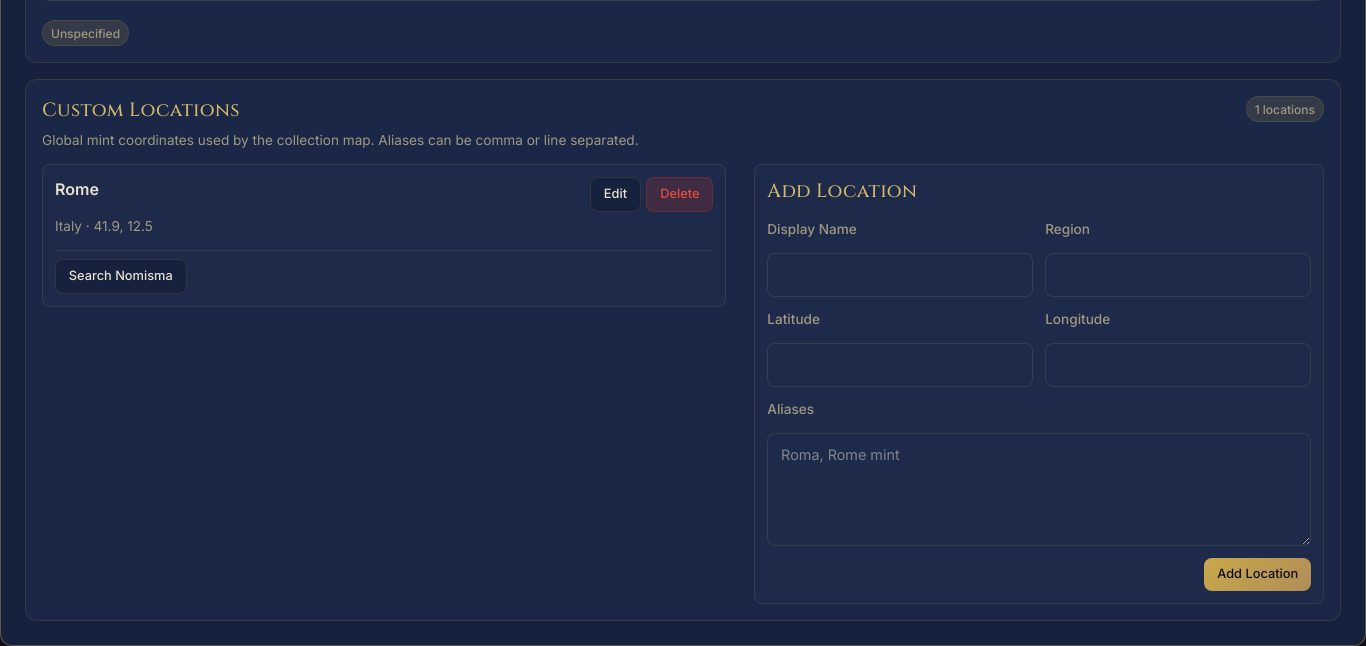
Scenario: AdminCoinPropertiesSection - Nomisma authority linking › shows "no match" messaging without any candidate and without linking anything
The image size is (1366, 646).
(page scrolled)
Click the button "Search Nomisma". click: (121, 277)
box: top-left (55, 259), bottom-right (186, 294)
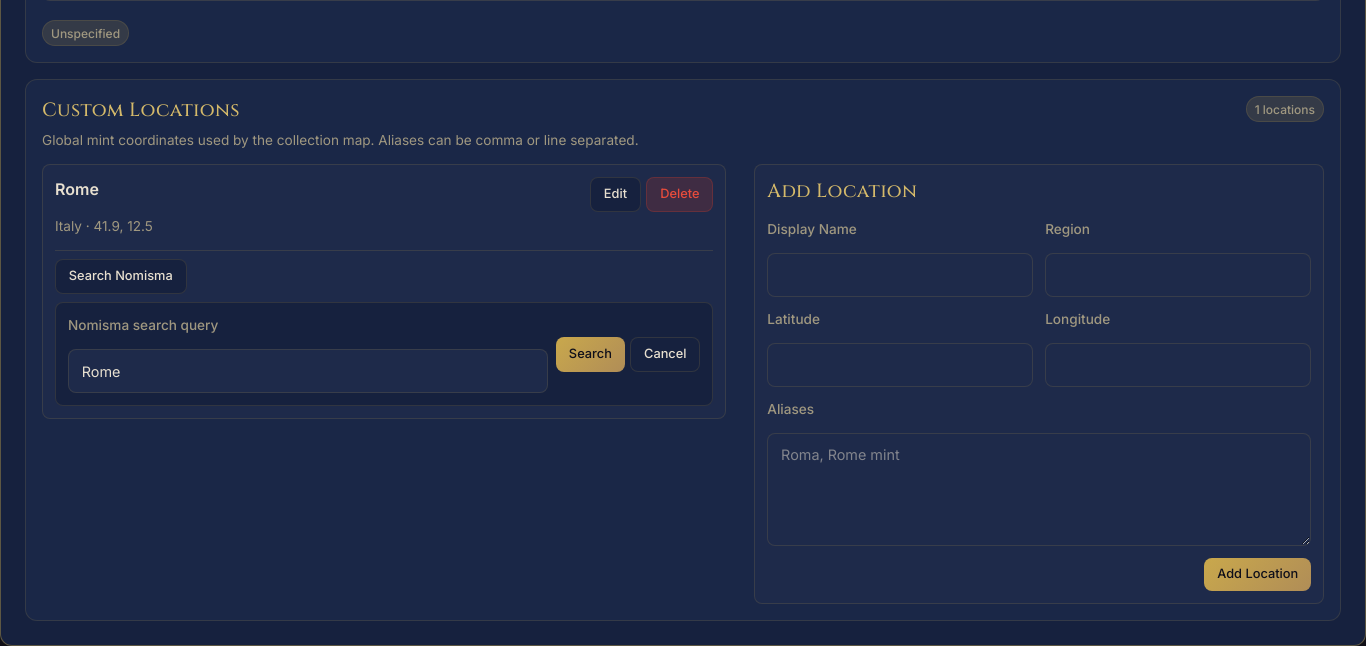
Submit the form with class "nomisma-search-form", box top-left (68, 315), bottom-right (700, 393)
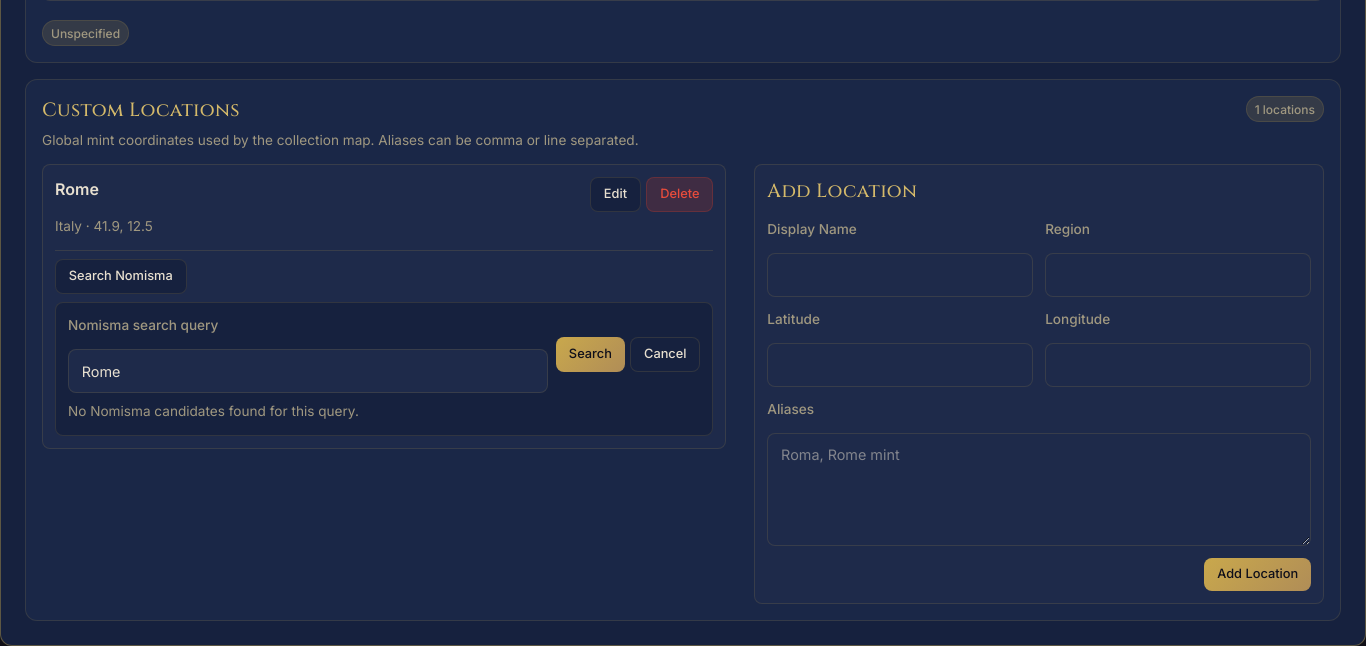
Check: the text "No Nomisma candidates found" is shown, box top-left (68, 403), bottom-right (359, 419)
